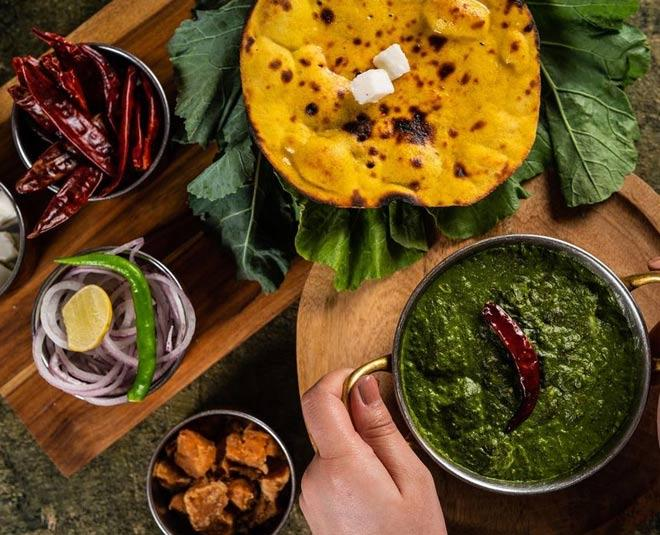saag: (402, 244, 644, 490)
